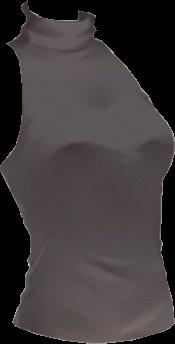Bodice: (0, 0, 174, 342)
Neckline: (17, 1, 96, 50)
Waistline: (11, 316, 174, 343)
